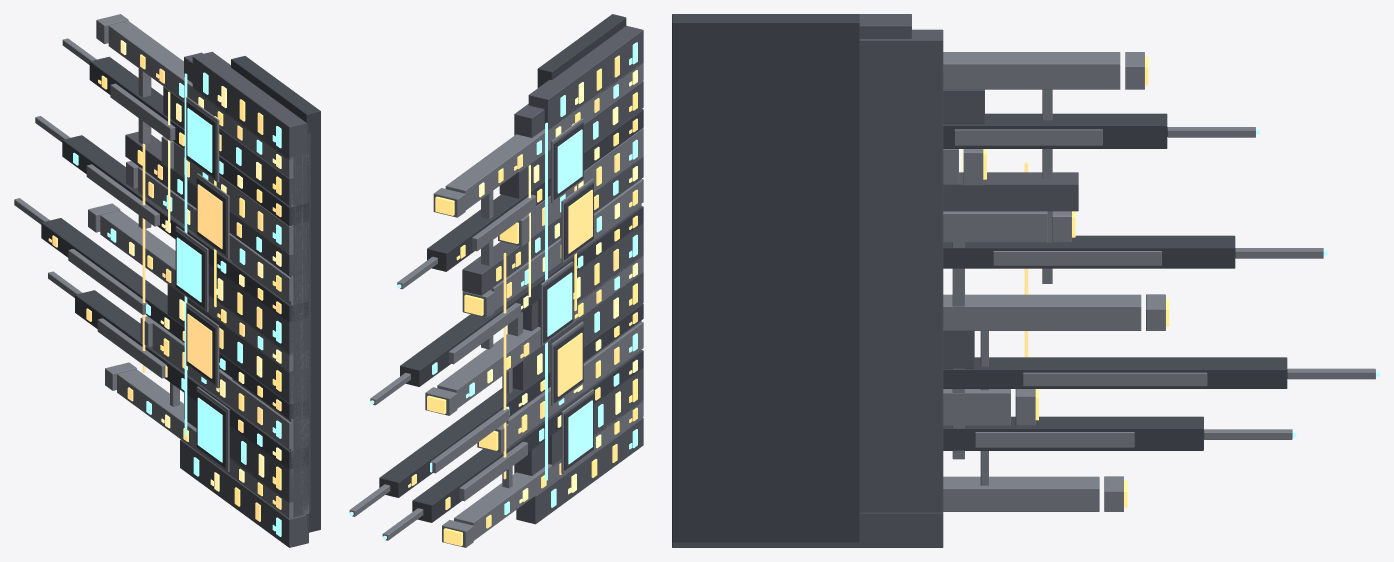
The model's file is horizon_shell.glb.
3 views of the same model, side by side, from view 1: azimuth 30°, elevation 25°; view 2: azimuth 150°, elevation 25°; view 3: azimuth 270°, elevation 25° (orthographic). The views are drawn at different scales.
Visible parts, largest first — view 1: HorizonShell; view 2: HorizonShell; view 3: HorizonShell.
Boxes of the visible parts, x1,y1,x2,y2 form: HorizonShell: [14, 14, 320, 547]; HorizonShell: [349, 14, 643, 547]; HorizonShell: [672, 14, 1379, 547].
Bounding box in the file's own units: 1.1 × 11.27 × 13.57.
